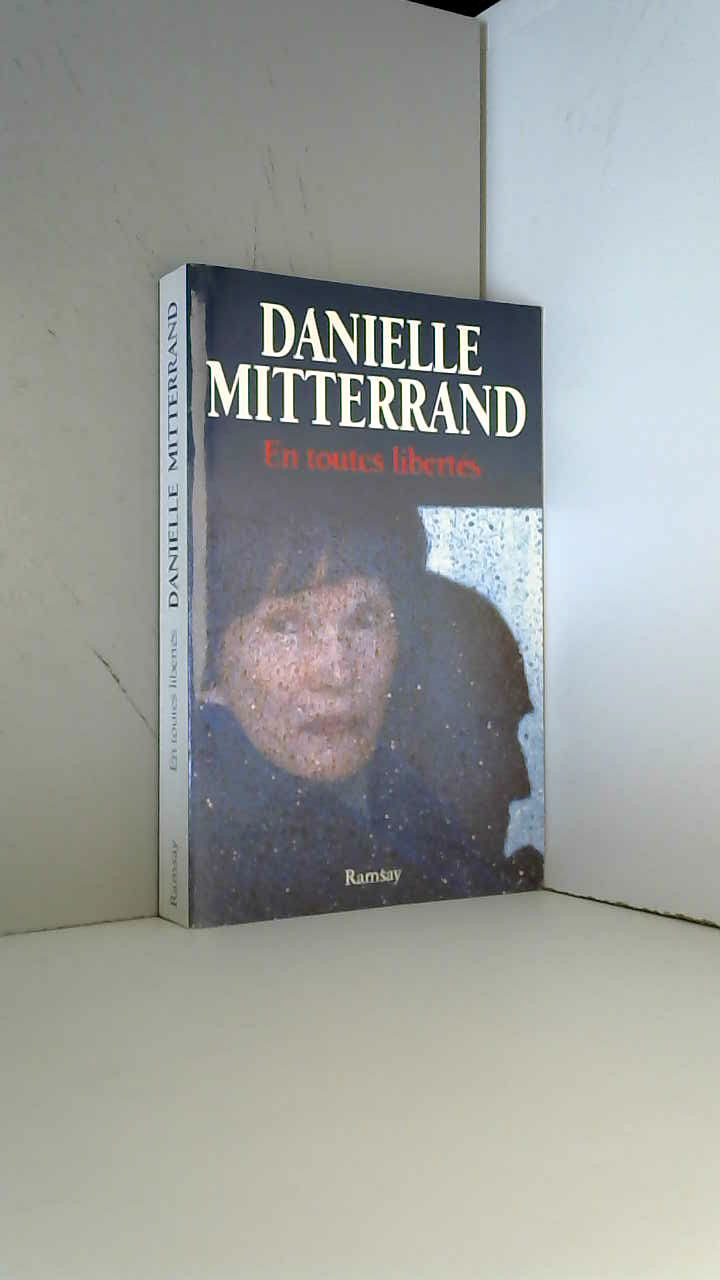book: (127, 231, 584, 957)
